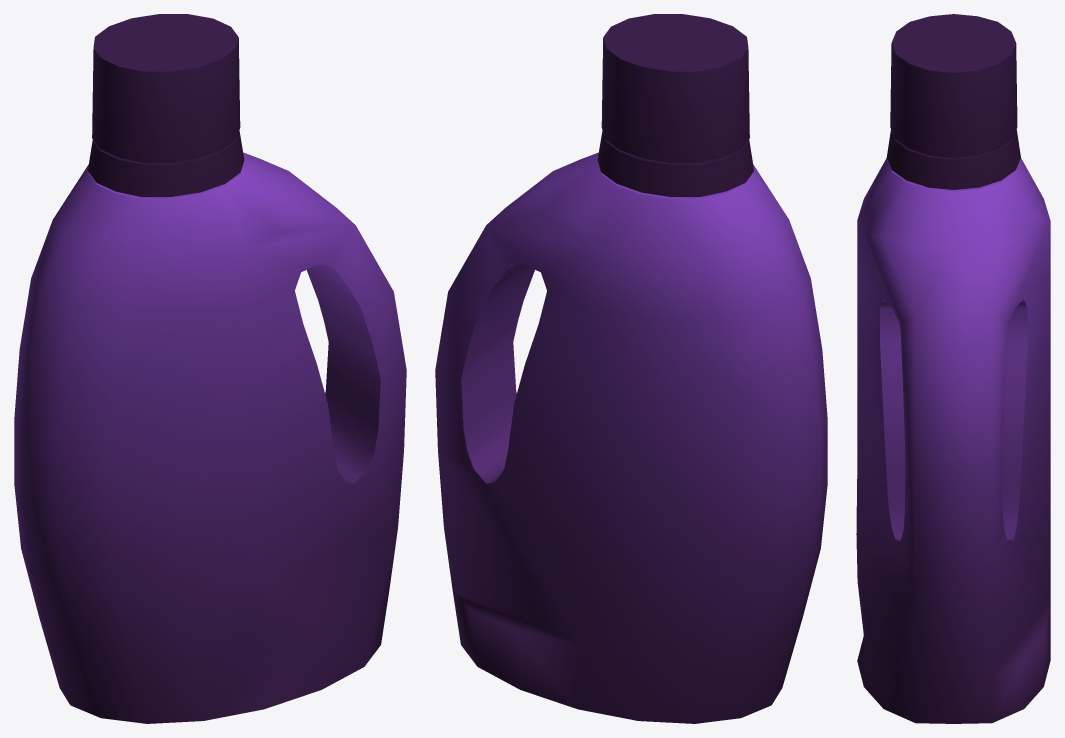
File: detergent_purple.fbx
The picture shows the model from 3 angles, left to right: view 1: azimuth 30°, elevation 25°; view 2: azimuth 150°, elevation 25°; view 3: azimuth 270°, elevation 25°; orthographic projection. The views are drawn at different scales.
Visible parts, largest first — view 1: detergent_purple; view 2: detergent_purple; view 3: detergent_purple.
Part boxes in pixels (left/top/right/bottom): detergent_purple: left=14, top=14, right=406, bottom=723; detergent_purple: left=435, top=14, right=827, bottom=723; detergent_purple: left=856, top=14, right=1050, bottom=723.
Bounding box in the file's own units: 218 × 363 × 107.
